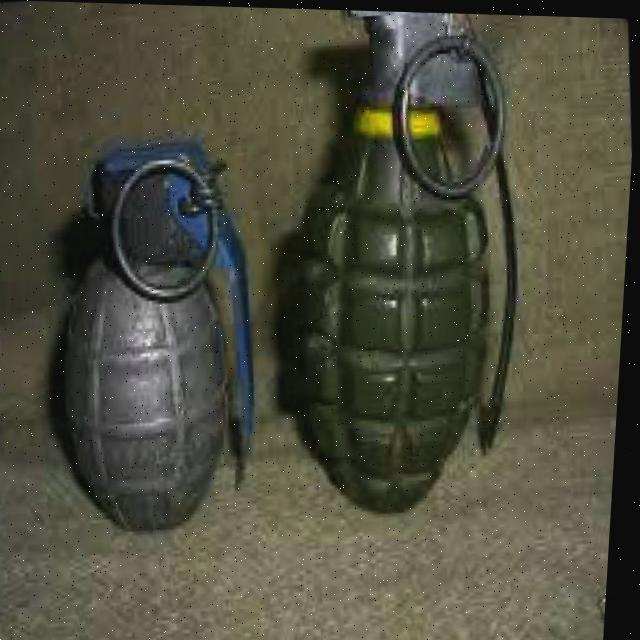grenade: (229, 6, 588, 523), (18, 129, 285, 546)
